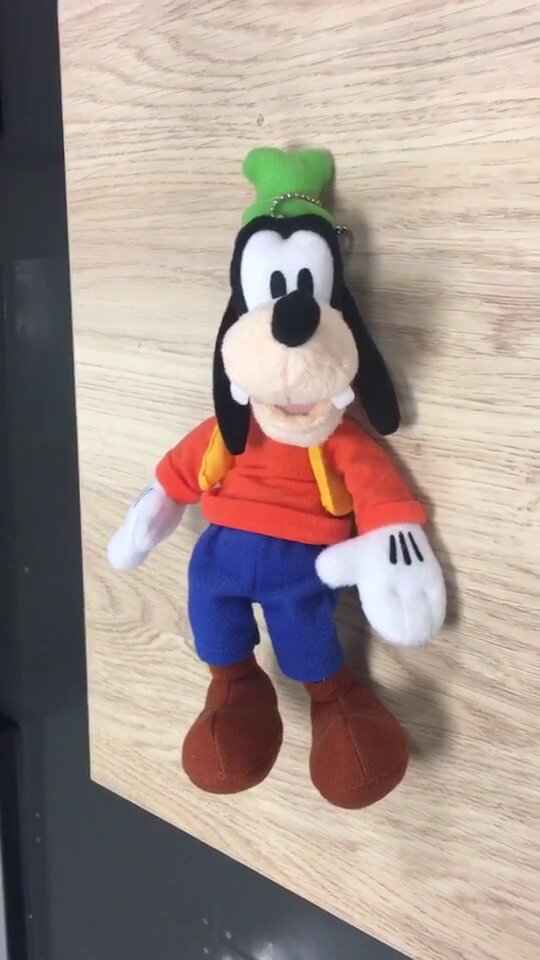goofy: (104, 142, 455, 813)
